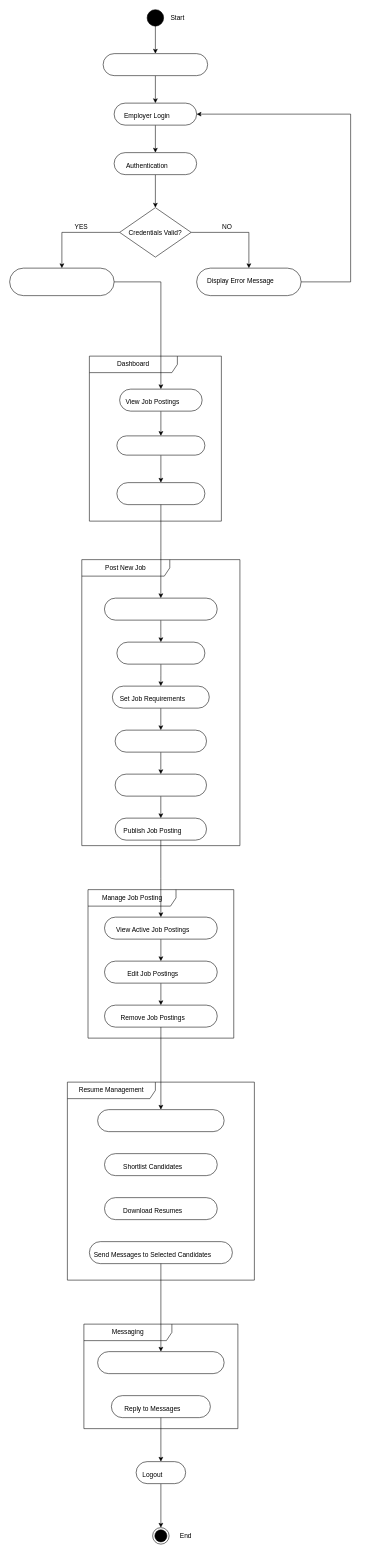
The diagram is 365 pixels wide and 1554 high, and some of its shapes have lost their labels. Each missing label, with the box of its shape:
Check Messages from Candidates: (97, 1351, 224, 1374)
Choose Job Location: (115, 730, 207, 752)
Employer Registration: (103, 53, 208, 76)
Enter Job Title and Description: (104, 598, 217, 620)
Manage Job Postings: (116, 482, 205, 505)
Post a New Job: (116, 435, 205, 455)
Select Job Category: (116, 642, 205, 664)
Set Salary Range: (115, 774, 207, 796)
Show Employer Dashboard: (9, 268, 114, 296)
View Resumes Submitted for Jobs: (97, 1109, 224, 1132)
